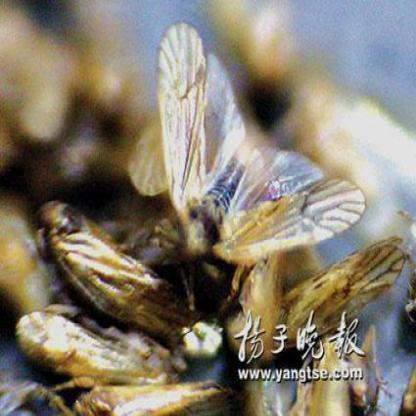brown-planthopper: (152, 15, 366, 285)
